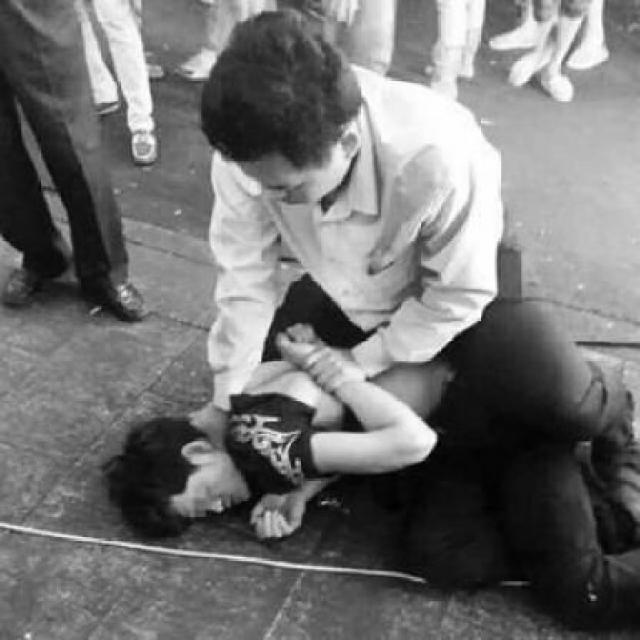fall: (93, 306, 418, 548)
